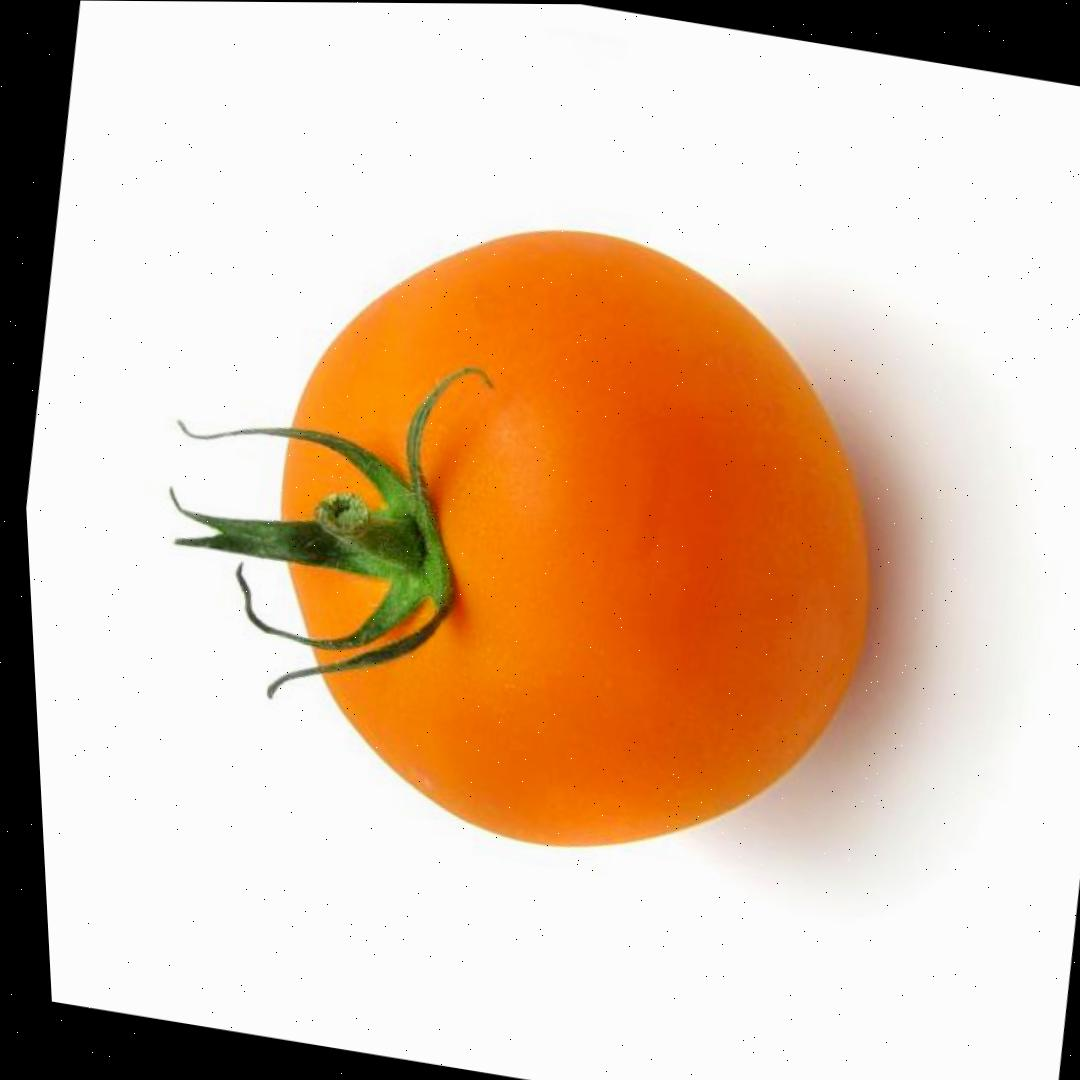matang: (213, 185, 932, 896)
